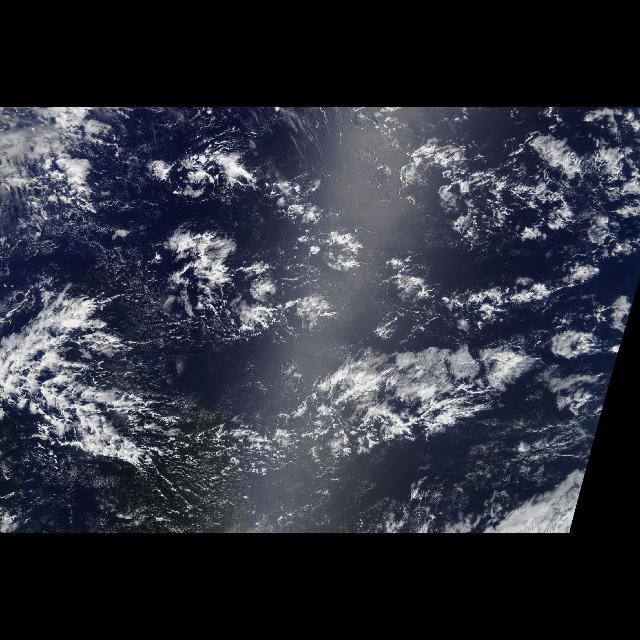Fish: (10, 260, 176, 498)
